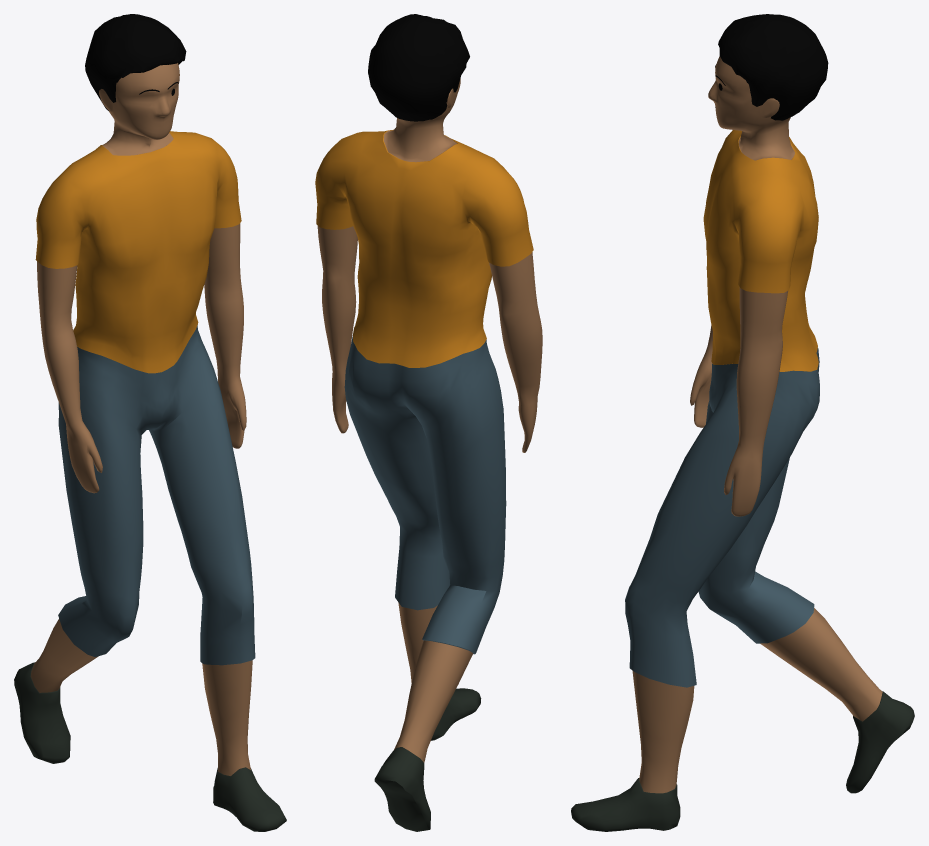
File: Male_Walking_1.glb
The picture shows the model from 3 angles, left to right: view 1: azimuth 30°, elevation 25°; view 2: azimuth 150°, elevation 25°; view 3: azimuth 270°, elevation 25°; orthographic projection. The views are drawn at different scales.
Parts seen in each view (by area): view 1: Male-walking-1; view 2: Male-walking-1; view 3: Male-walking-1.
Part boxes in pixels (<box>): Male-walking-1: <box>14,14,286,831</box>; Male-walking-1: <box>315,14,542,831</box>; Male-walking-1: <box>571,14,914,831</box>.
Bounding box in the file's own units: 0.4612 × 1.66 × 0.6543.
